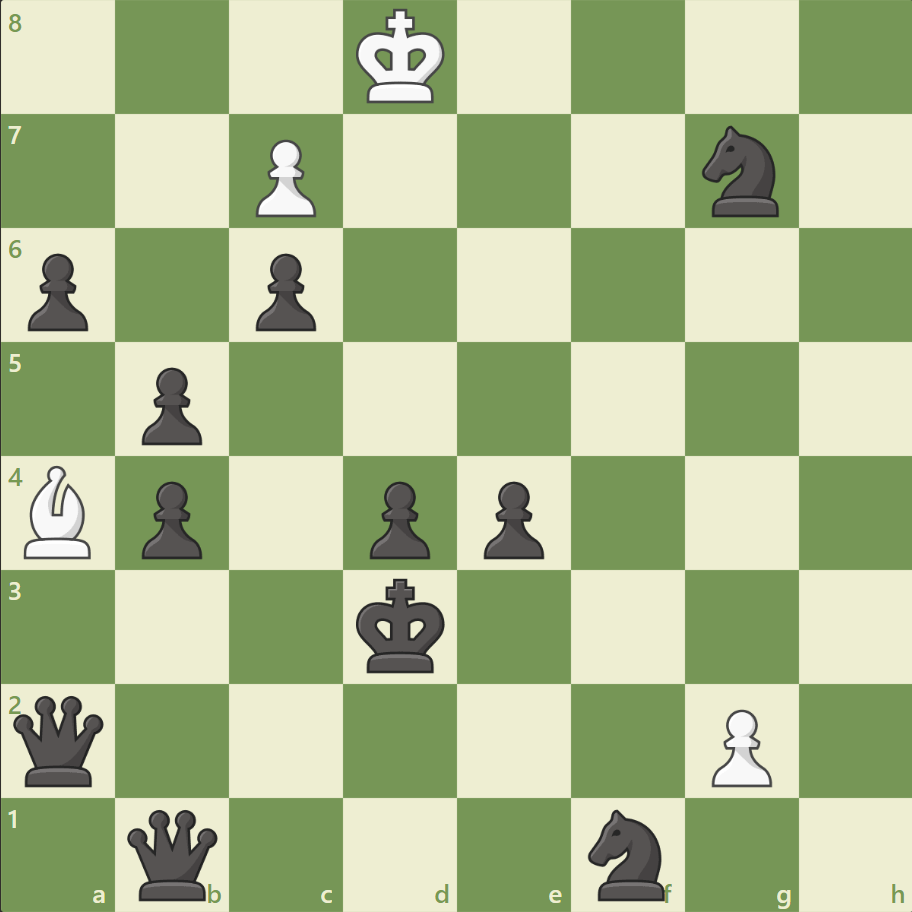B: (17, 460, 101, 563)
K: (351, 4, 451, 112)
P: (247, 132, 322, 223), (701, 700, 776, 791)
k: (351, 571, 451, 679)
n: (692, 121, 789, 223), (579, 802, 676, 904)
p: (20, 246, 95, 337), (247, 246, 322, 337), (133, 359, 208, 450), (133, 473, 208, 564), (474, 473, 549, 564), (361, 473, 435, 564)
q: (10, 690, 109, 789), (124, 804, 223, 903)
